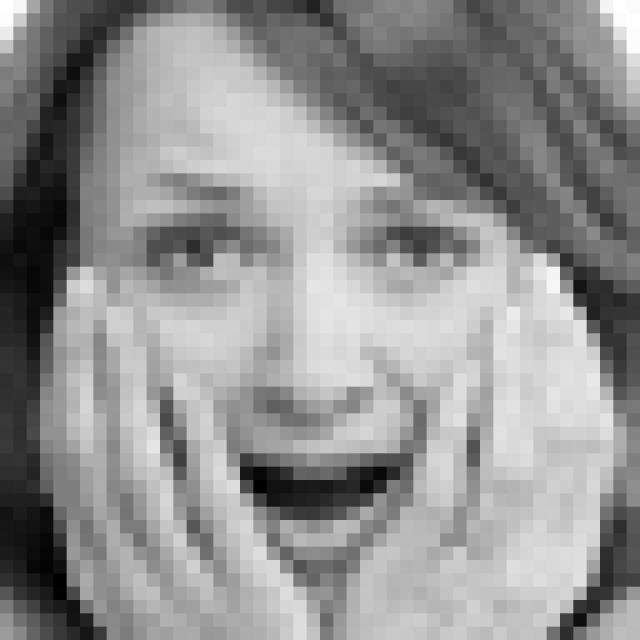fear: (132, 171, 502, 568)
